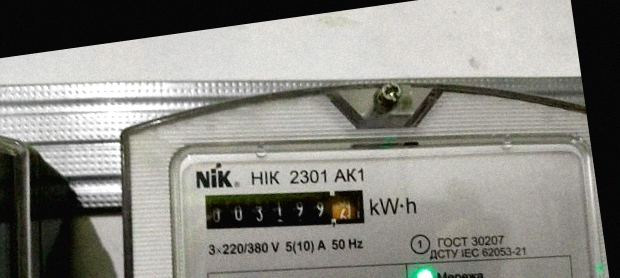0: (207, 203, 223, 224), (230, 201, 244, 222)
1: (272, 197, 284, 217)
3: (252, 203, 263, 223)
6: (336, 205, 348, 222)
9: (313, 199, 325, 218), (293, 198, 304, 217)
screen: (195, 168, 374, 252)
